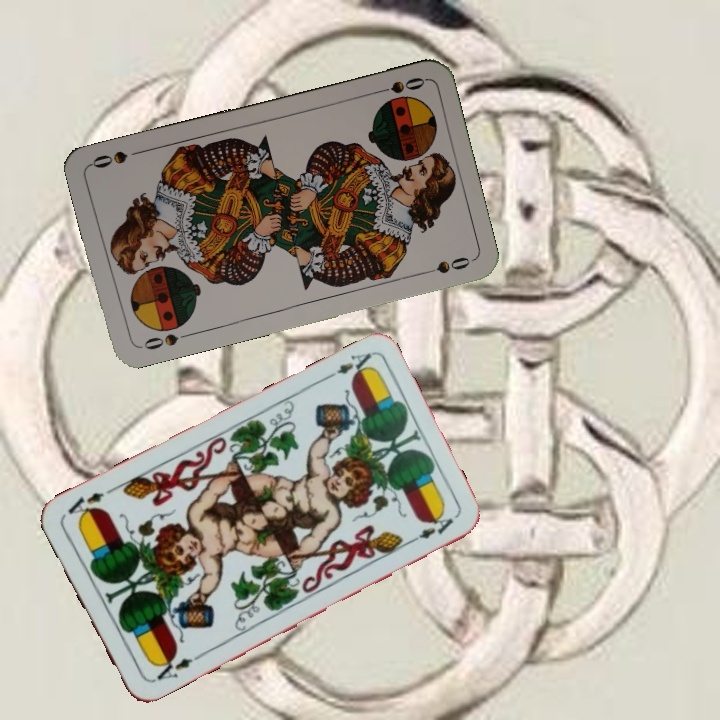EA: (319, 348, 376, 384), (148, 650, 203, 685)
SO: (369, 73, 428, 97), (134, 329, 193, 353)
